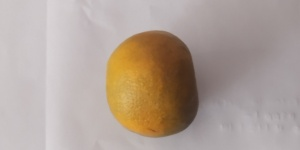BAD: (102, 27, 199, 139)
